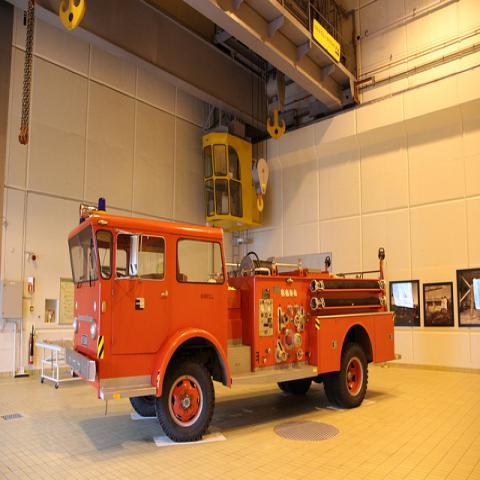truck: (66, 196, 402, 438)
